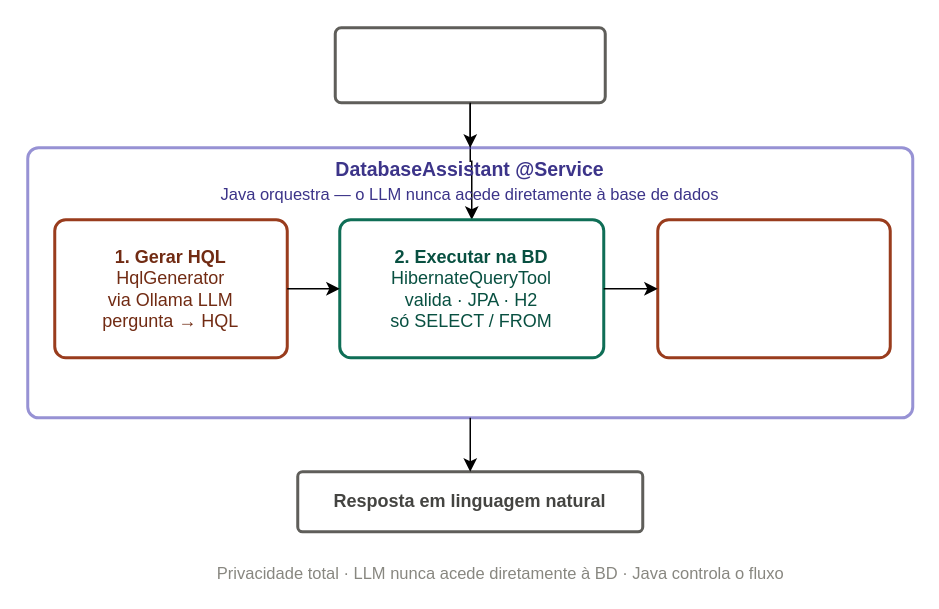
Image size: 939x609. Some labels were removed from this diagram. Here are the shapes that lost their labels. From the top down, the centre of each, then its label:
(469,65): Pergunta em linguagem natural
(773,288): 3. Formatar AnswerFormatter via Ollama LLM resultado → texto
